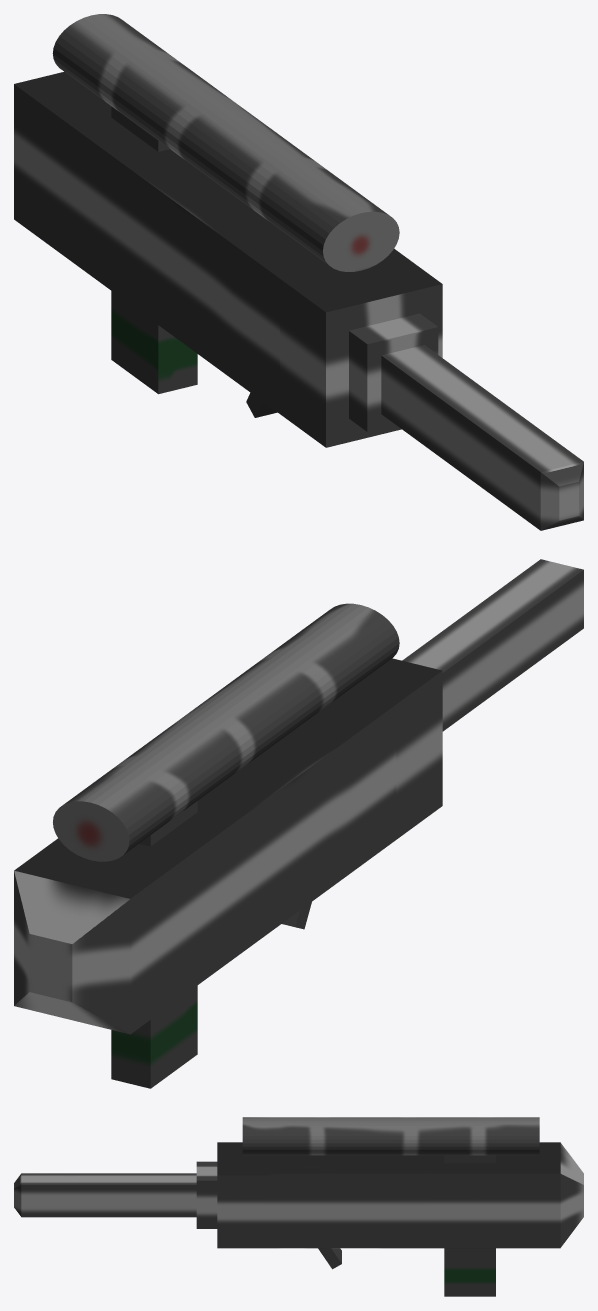
File: Sniper3.fbx
The picture shows the model from 3 angles, top to bottom: view 1: azimuth 30°, elevation 25°; view 2: azimuth 150°, elevation 25°; view 3: azimuth 270°, elevation 25°; orthographic projection. The views are drawn at different scales.
Visible parts, largest first — view 1: Cube, Cylinder, Cube.001; view 2: Cube, Cylinder, Cube.001; view 3: Cube, Cylinder, Cube.001, Cube.002.
Part boxes in pixels (bbox=[...]): Cube: bbox=[14, 72, 583, 530]; Cylinder: bbox=[52, 14, 399, 271]; Cube.001: bbox=[111, 106, 197, 394]; Cube: bbox=[14, 559, 583, 1034]; Cylinder: bbox=[53, 603, 399, 861]; Cube.001: bbox=[111, 801, 197, 1088]; Cube: bbox=[14, 1142, 583, 1248]; Cylinder: bbox=[242, 1117, 539, 1155]; Cube.001: bbox=[444, 1155, 495, 1296]; Cube.002: bbox=[318, 1248, 341, 1269].
Size of the model in its own units: 90.31 by 230 by 696.
